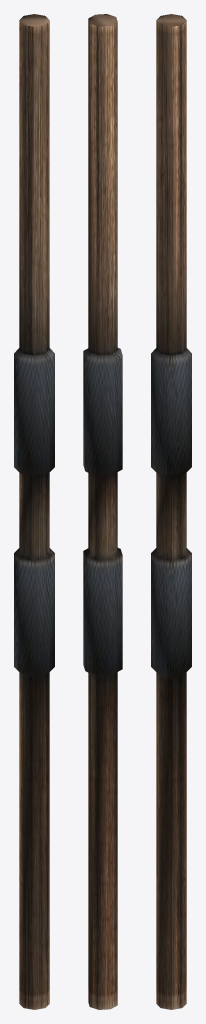
The model's file is weapons_staff.glb.
3 views of the same model, side by side, from view 1: azimuth 90°, elevation 25°; view 2: azimuth 210°, elevation 25°; view 3: azimuth 270°, elevation 25° (orthographic).
Parts seen in each view (by area): view 1: staff; view 2: staff; view 3: staff.
Boxes of the visible parts, bbox=[...] form: staff: bbox=[14, 14, 54, 1009]; staff: bbox=[83, 14, 122, 1009]; staff: bbox=[151, 14, 191, 1009].
Size of the model in its own units: 0.0703 by 1.87 by 0.0703.
1 material, 1 textured.
